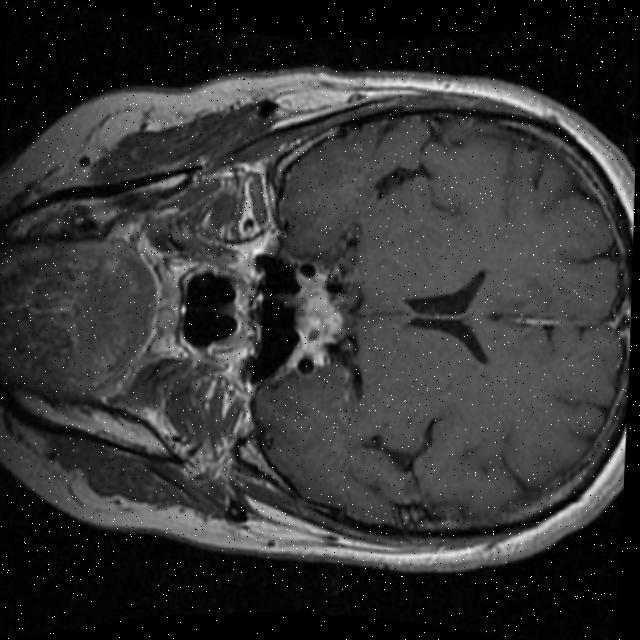Pituitary: (291, 290, 344, 352)
